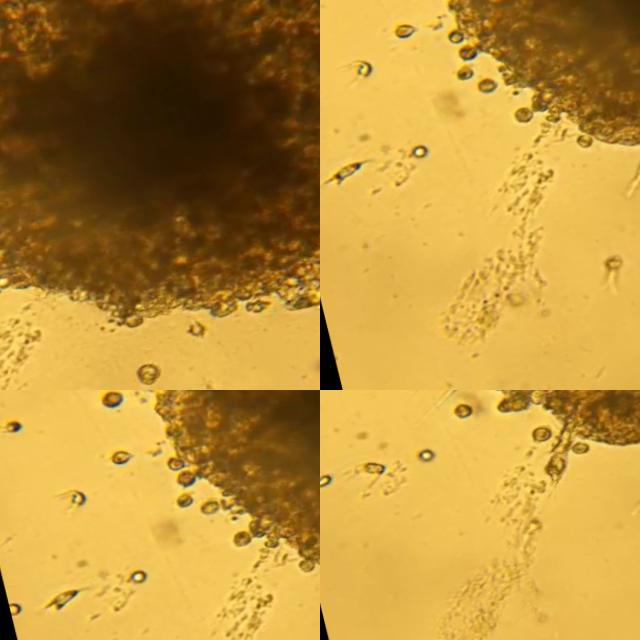cell: (42, 590, 77, 610), (331, 165, 359, 186), (54, 488, 85, 506), (136, 362, 158, 386), (361, 461, 384, 476), (102, 390, 122, 407), (198, 498, 217, 515), (449, 403, 468, 419), (474, 77, 494, 92), (128, 567, 144, 585), (172, 491, 190, 507), (108, 451, 131, 463), (354, 59, 370, 76), (416, 448, 434, 463), (529, 426, 547, 441), (453, 65, 470, 80), (602, 254, 617, 270), (2, 420, 19, 433), (409, 145, 424, 159), (188, 321, 200, 337), (393, 24, 409, 36), (6, 602, 21, 614), (569, 443, 585, 454), (320, 474, 327, 486)
tumor_mass: (150, 390, 320, 572)
